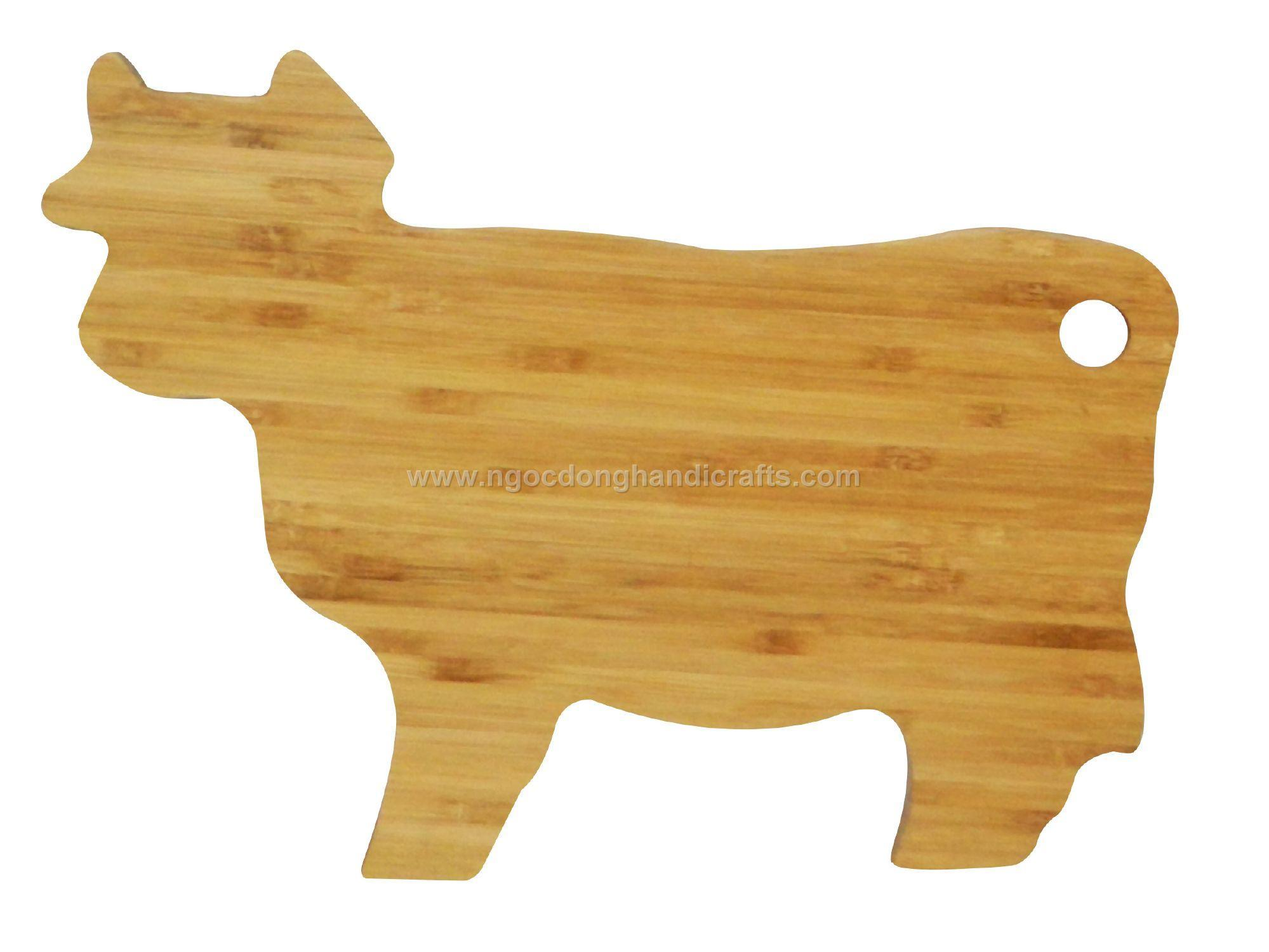gloved_hand: (30, 30, 1186, 887)
